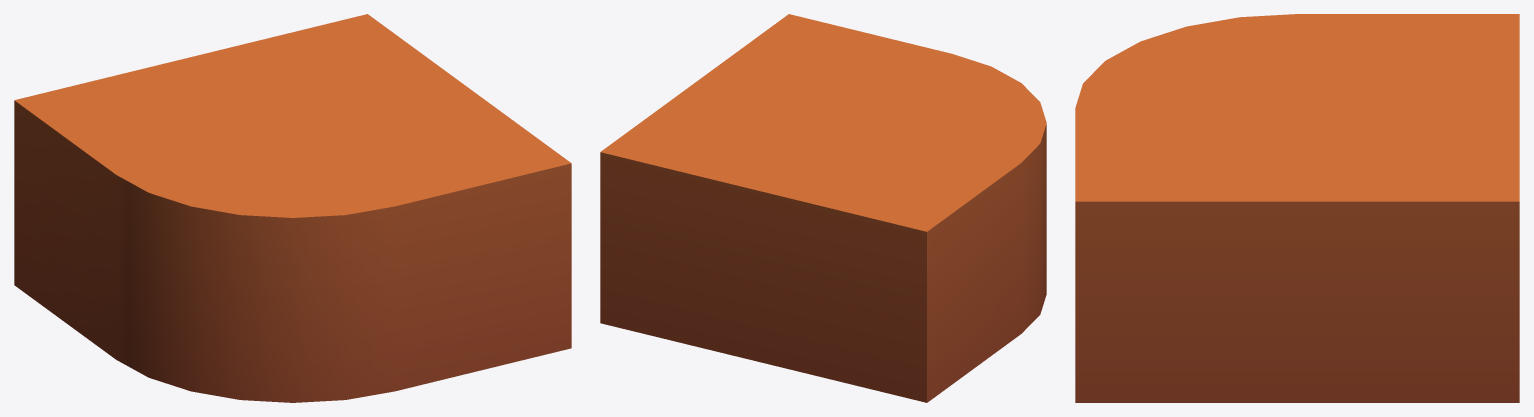
File: terrain_low_curved.glb
3 renders of one model, left to right at view 1: azimuth 30°, elevation 25°; view 2: azimuth 150°, elevation 25°; view 3: azimuth 270°, elevation 25°, orthographic. The views are drawn at different scales.
Visible parts, largest first — view 1: terrain_low_curved; view 2: terrain_low_curved; view 3: terrain_low_curved.
Part boxes in pixels (box(x1,y1,x2,y2)): terrain_low_curved: box(14, 14, 571, 402); terrain_low_curved: box(600, 14, 1046, 402); terrain_low_curved: box(1075, 14, 1519, 402).
Bounding box in the file's own units: 6 × 3 × 6.
1 material, 1 textured.
